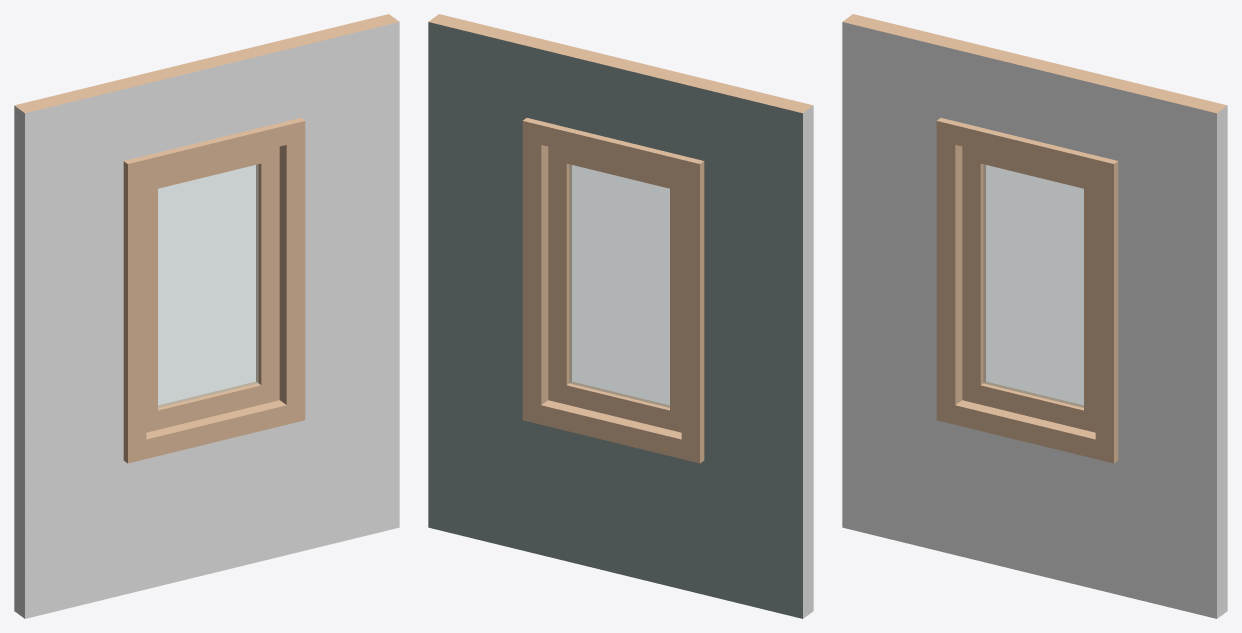
Rendered from wallWindow.gltf.
3 renders of one model, left to right at view 1: azimuth 30°, elevation 25°; view 2: azimuth 150°, elevation 25°; view 3: azimuth 330°, elevation 25°, orthographic.
Visible parts, largest first — view 1: wallWindow(Clone), window; view 2: wallWindow(Clone), window; view 3: wallWindow(Clone), window.
Boxes of the visible parts, x1,y1,x2,y2 form: wallWindow(Clone): (14, 14, 399, 618); window: (146, 146, 279, 432); wallWindow(Clone): (428, 14, 813, 618); window: (548, 146, 681, 432); wallWindow(Clone): (842, 14, 1227, 618); window: (962, 146, 1095, 432).
Bounding box in the file's own units: 1 × 1.29 × 0.0891.
